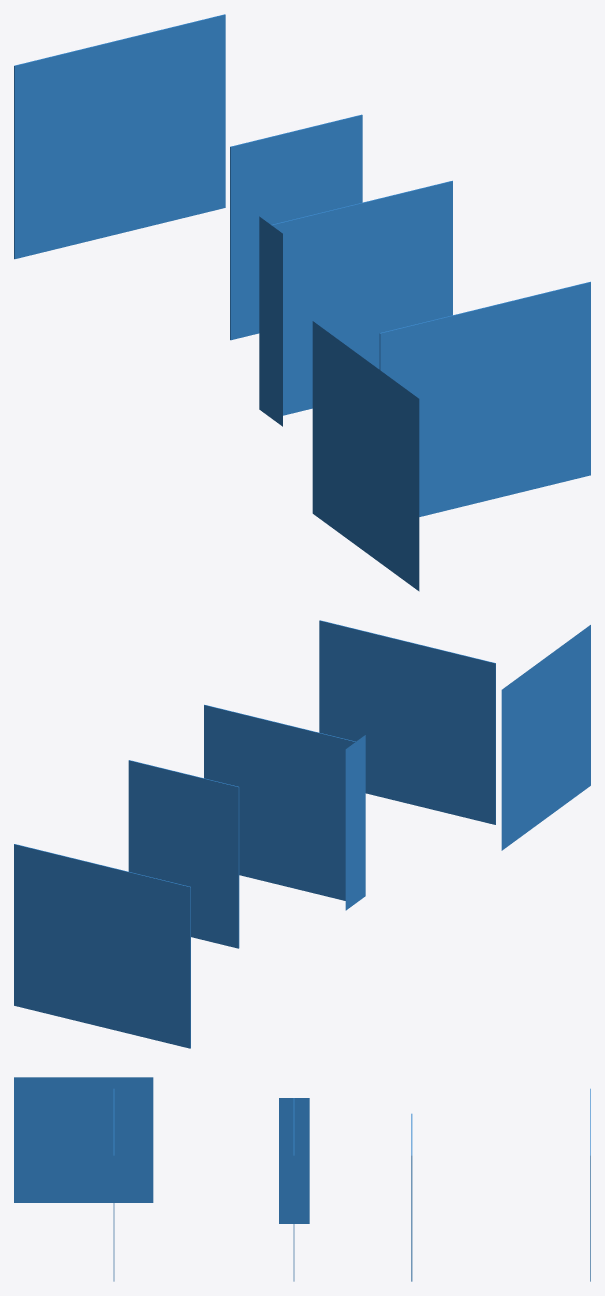
Rendered from floor_1.5_right.glb.
3 renders of one model, top to bottom at view 1: azimuth 30°, elevation 25°; view 2: azimuth 150°, elevation 25°; view 3: azimuth 270°, elevation 25°, orthographic. The views are drawn at different scales.
Parts seen in each view (by area): view 1: 立方体; view 2: 立方体; view 3: 立方体.
Part boxes in pixels (box(x1,y1,x2,y2)): 立方体: box(14, 14, 590, 591); 立方体: box(14, 620, 590, 1048); 立方体: box(14, 1077, 590, 1281).
Size of the model in its own units: 4.7 by 3.5 by 14.53.
